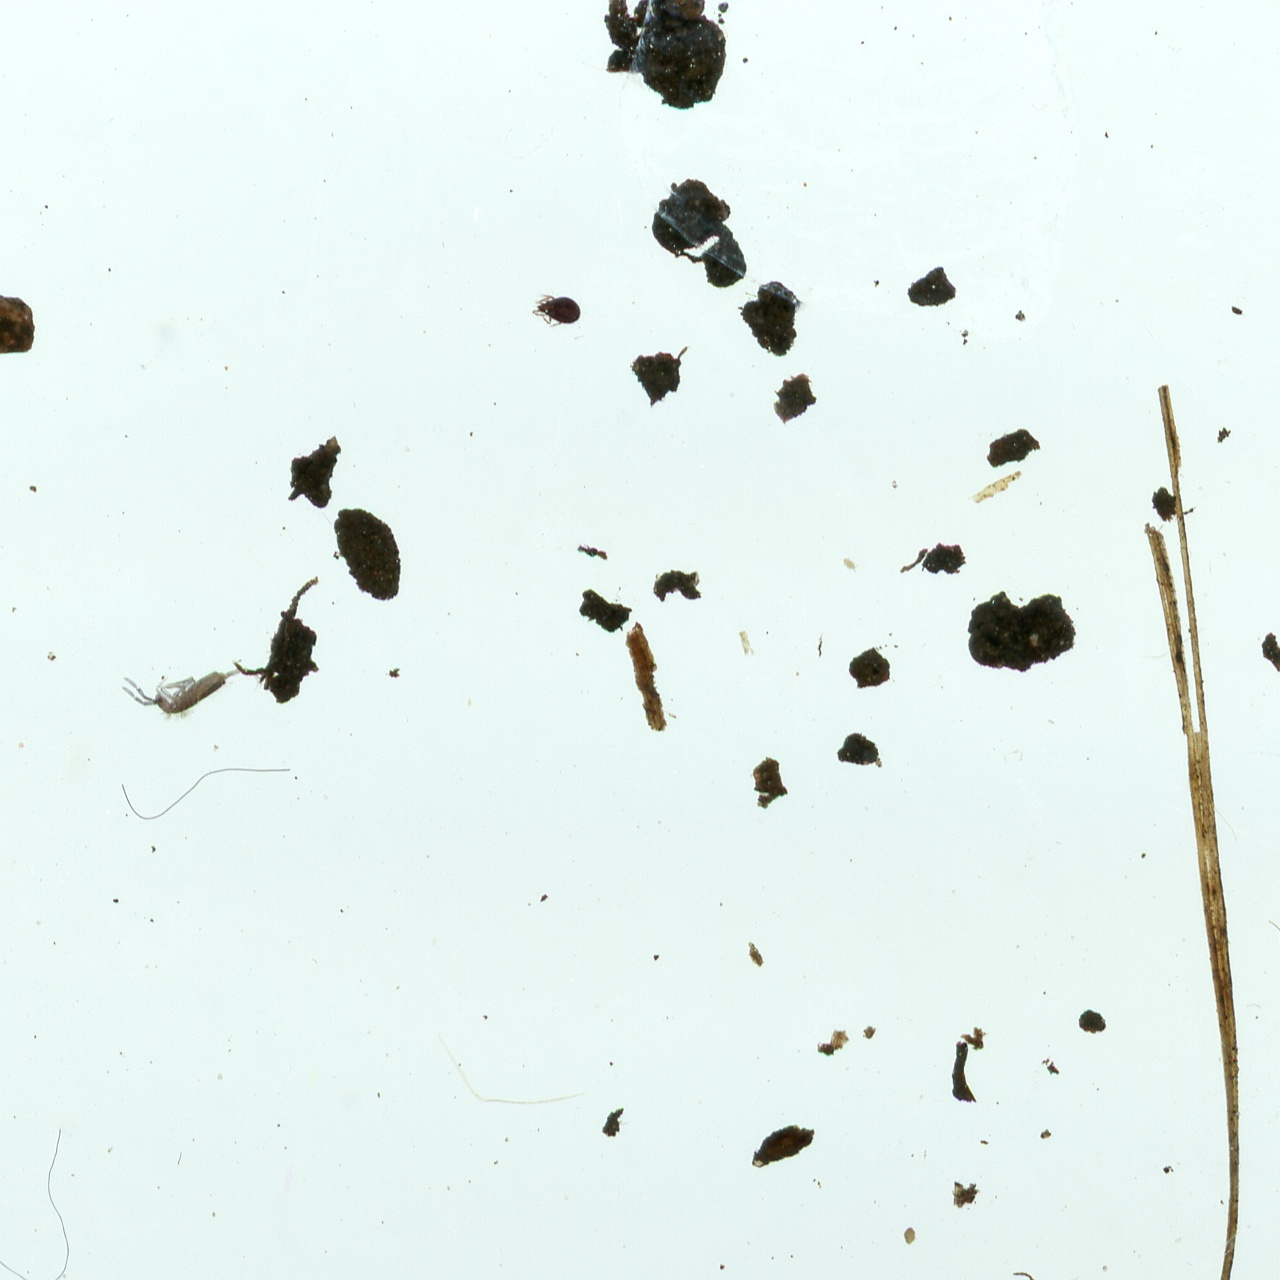arthropod: (113, 663, 260, 727), (528, 289, 584, 332)
